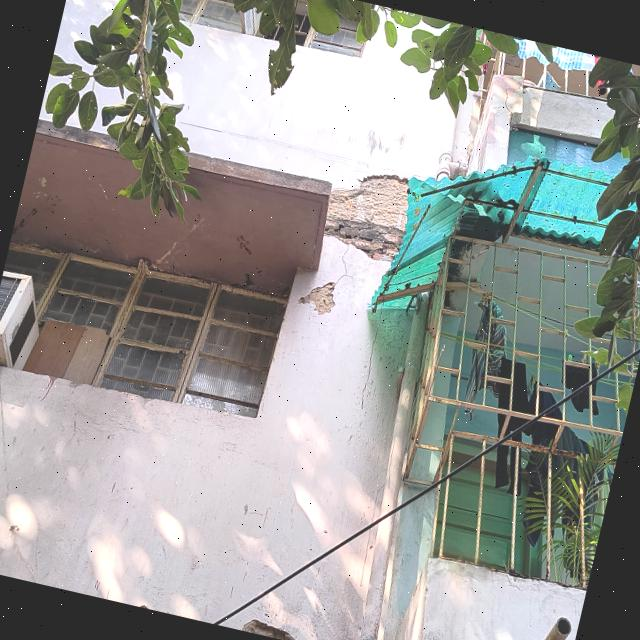peeling: (324, 175, 408, 261), (298, 282, 335, 314)
